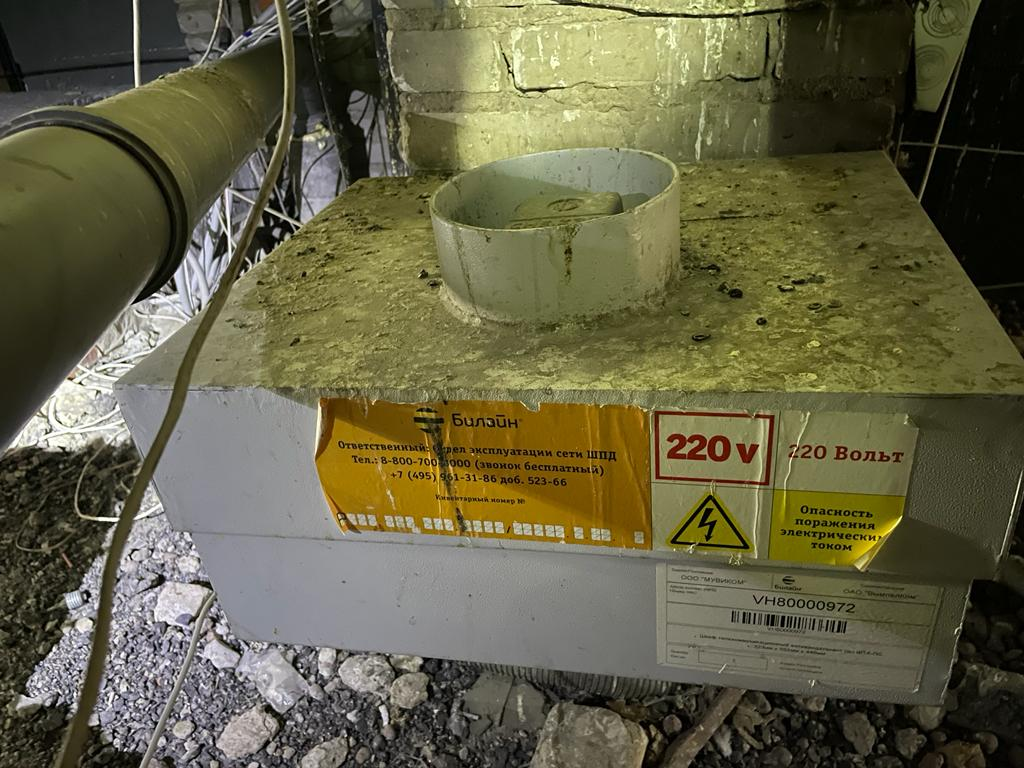shta-ps: (105, 141, 1008, 717)
